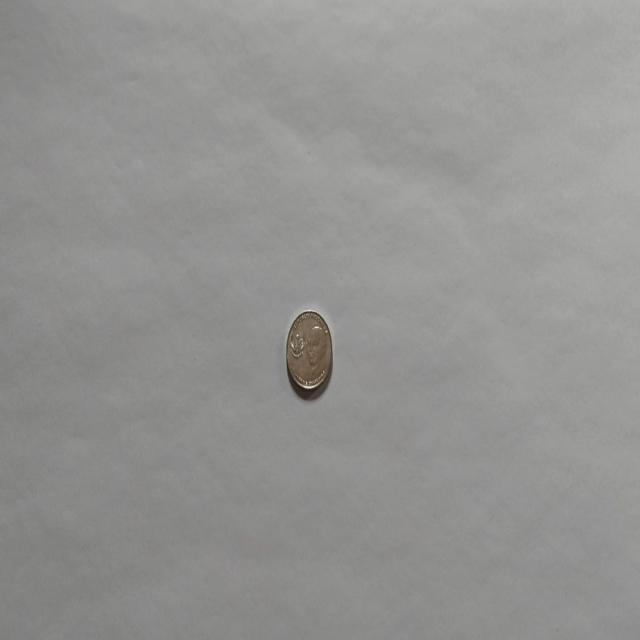lima ratus rupiah: (285, 308, 333, 393)
